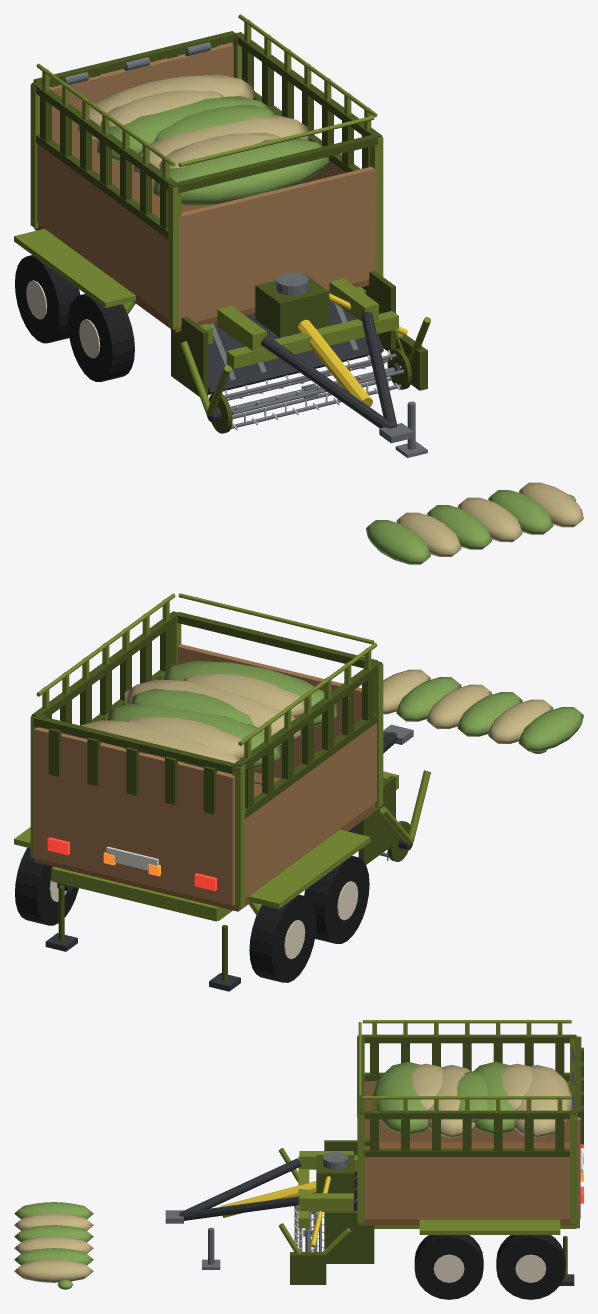
The model's file is forage_wagon.glb.
The picture shows the model from 3 angles, top to bottom: view 1: azimuth 30°, elevation 25°; view 2: azimuth 150°, elevation 25°; view 3: azimuth 270°, elevation 25°; orthographic projection. The views are drawn at different scales.
Parts seen in each view (by area): view 1: WagonBody, WagonProps, WagonPickup; view 2: WagonBody, WagonProps; view 3: WagonBody, WagonProps, WagonPickup.
Boxes of the visible parts, x1=… form: WagonBody: x1=14, y1=14, x2=430, y2=457; WagonProps: x1=366, y1=482, x2=583, y2=564; WagonPickup: x1=209, y1=348, x2=411, y2=433; WagonBody: x1=14, y1=593, x2=430, y2=991; WagonProps: x1=383, y1=669, x2=583, y2=753; WagonBody: x1=165, y1=1020, x2=583, y2=1299; WagonProps: x1=14, y1=1202, x2=93, y2=1289; WagonPickup: x1=294, y1=1205, x2=324, y2=1251.
Size of the model in its own units: 2.6 by 2.35 by 6.28.
